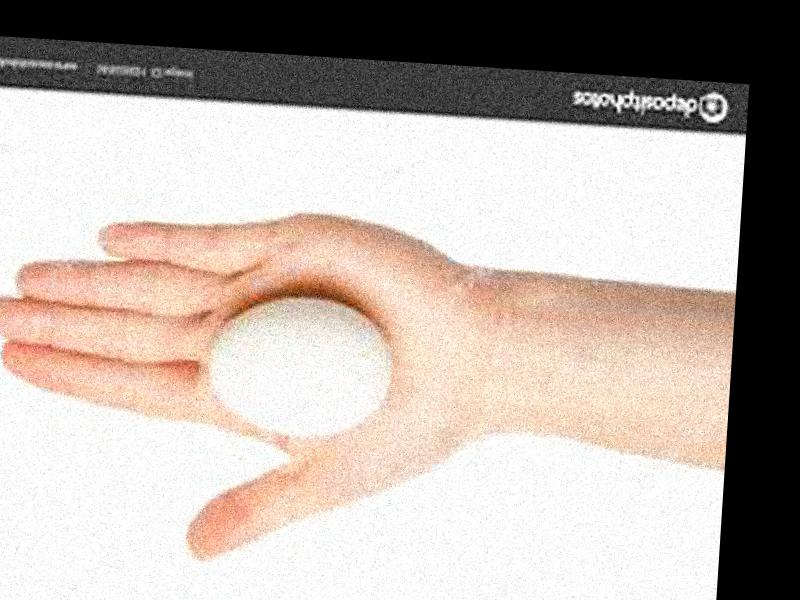Eggs: (204, 297, 394, 438)
